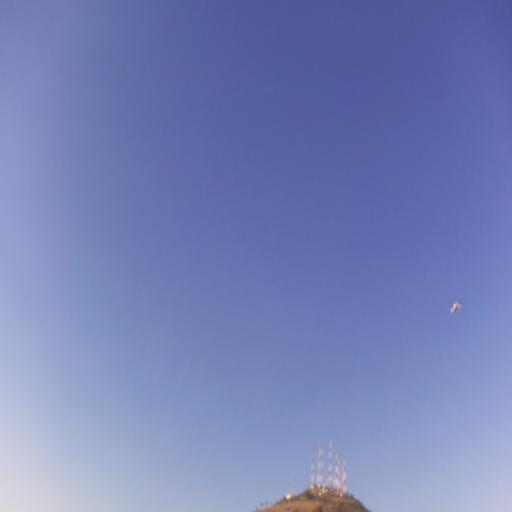drones: (449, 298, 463, 317)
